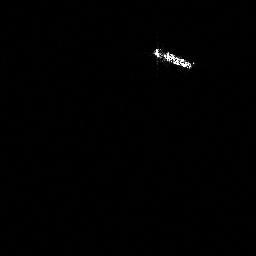ship: (154, 47, 193, 69)
